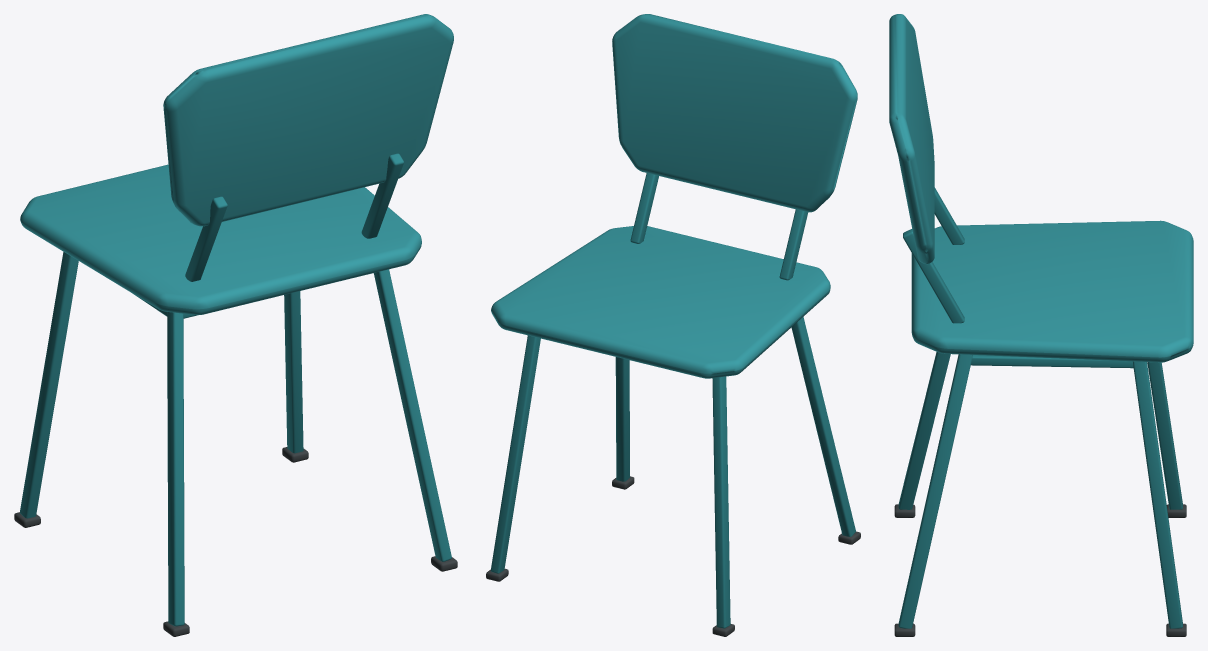
The model's file is chair.glb.
The picture shows the model from 3 angles, left to right: view 1: azimuth 30°, elevation 25°; view 2: azimuth 150°, elevation 25°; view 3: azimuth 270°, elevation 25°; orthographic projection. The views are drawn at different scales.
Visible parts, largest first — view 1: CafeChair; view 2: CafeChair; view 3: CafeChair.
Part boxes in pixels (box(x1,y1,x2,y2)): CafeChair: box(14, 14, 457, 636); CafeChair: box(486, 14, 860, 636); CafeChair: box(889, 14, 1193, 636).
Bounding box in the file's own units: 0.4536 × 0.8194 × 0.4427.
